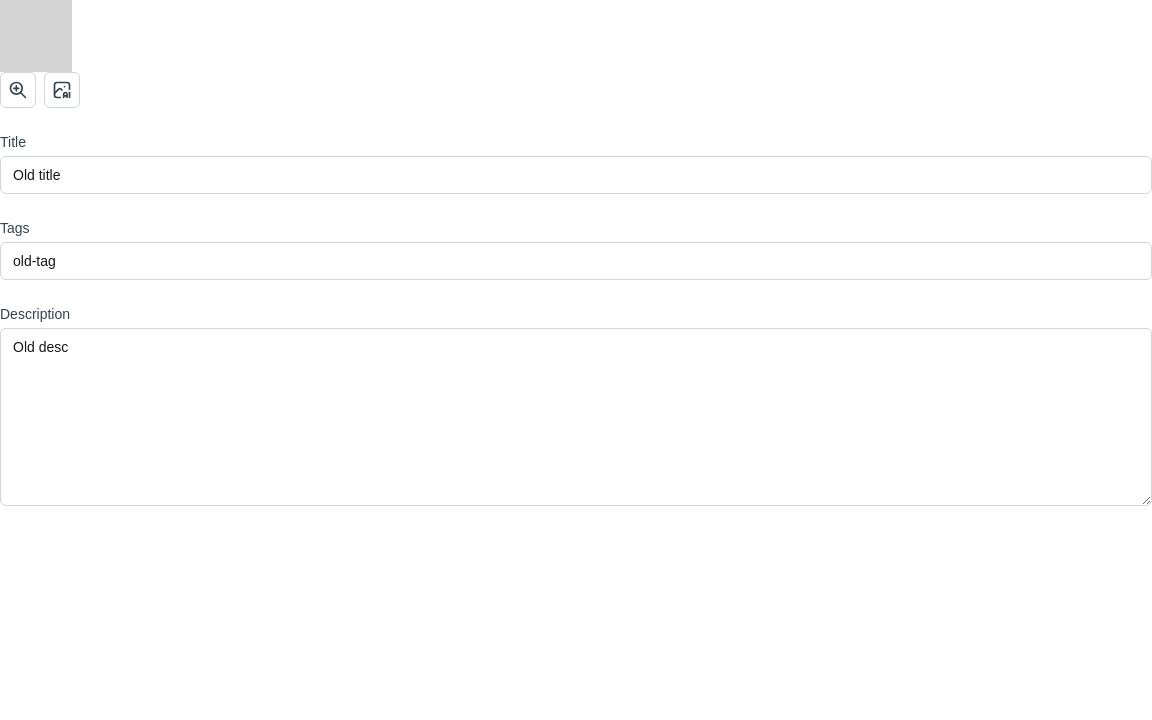
Test: ImageAiMetaSection › 加载中忽略再次点击
This screenshot has width=1152, height=720.
Later steps or results of the test are not shown.
Click the button named "AI recognize" at [62, 90], box [44, 72, 80, 108]
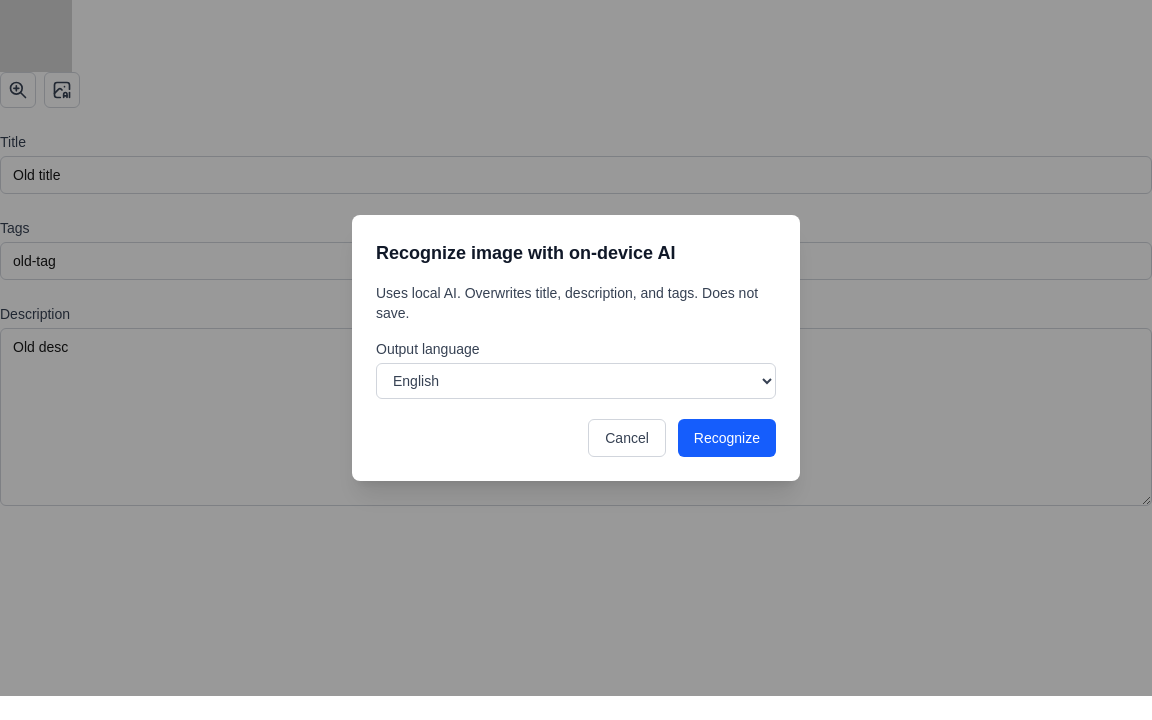
Click the button "Recognize" at [727, 438], box [678, 419, 776, 457]
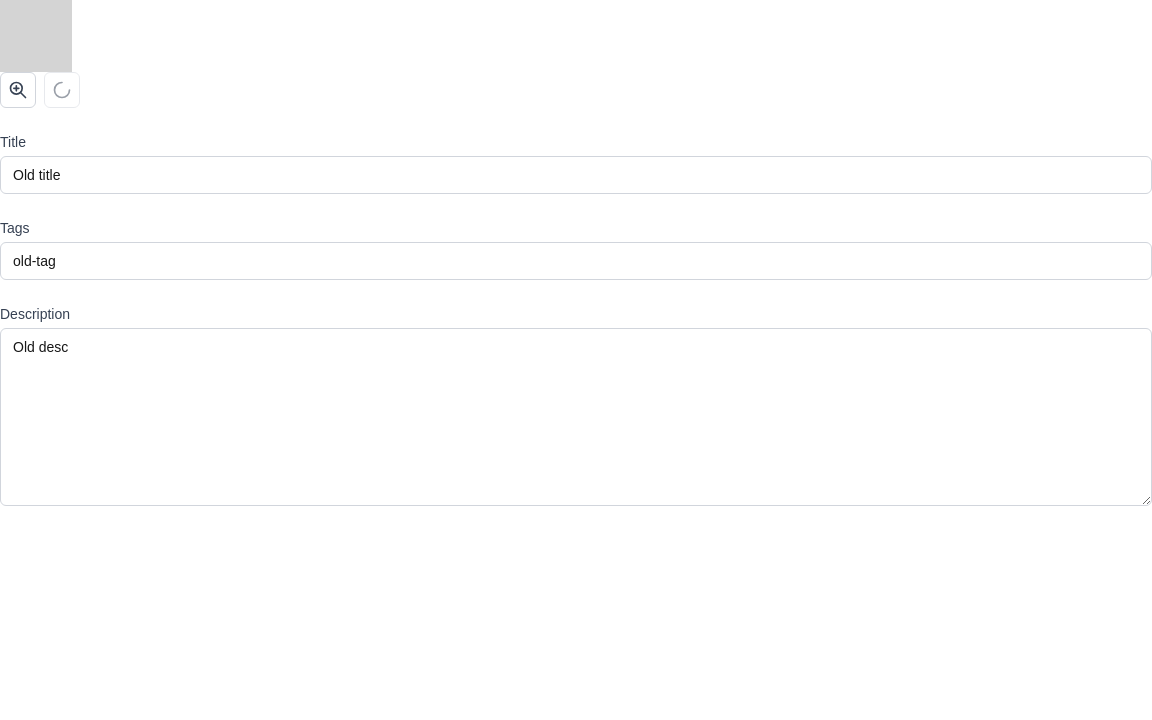
Result: the button named "AI recognize" is disabled at [44, 72, 80, 108]
